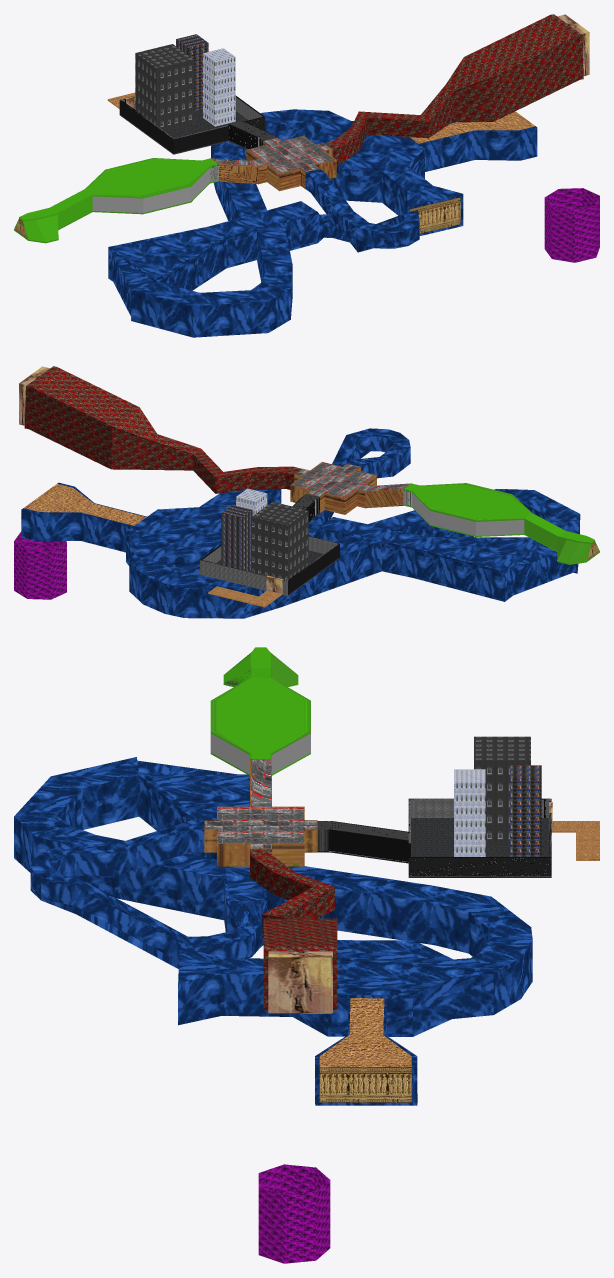
The model's file is room_v5_1.glb.
3 renders of one model, top to bottom at view 1: azimuth 30°, elevation 25°; view 2: azimuth 150°, elevation 25°; view 3: azimuth 270°, elevation 25°, orthographic. The views are drawn at different scales.
Visible parts, largest first — view 1: WaterRealm, cave, Garden, building2, Room, City, Prison, building, building3, Monolith_cave_purple; view 2: WaterRealm, cave, Garden, Room, building2, City, Prison, building3, citySecretRoom, building, Monolith_cave_purple; view 3: WaterRealm, City, Garden, Room, cave, Prison, Monolith_cave_purple, building2, building3, building, citySecretRoom.
Boxes of the visible parts, x1=… form: WaterRealm: x1=108, y1=109, x2=537, y2=337; cave: x1=324, y1=14, x2=583, y2=164; Garden: x1=14, y1=158, x2=218, y2=243; building2: x1=135, y1=44, x2=194, y2=131; Room: x1=211, y1=136, x2=336, y2=191; City: x1=119, y1=95, x2=276, y2=154; Prison: x1=544, y1=188, x2=599, y2=262; building: x1=203, y1=48, x2=235, y2=126; building3: x1=176, y1=34, x2=208, y2=110; Monolith_cave_purple: x1=557, y1=14, x2=589, y2=76; WaterRealm: x1=21, y1=428, x2=580, y2=618; cave: x1=24, y1=366, x2=301, y2=493; Garden: x1=403, y1=483, x2=599, y2=564; Room: x1=290, y1=462, x2=410, y2=514; building2: x1=252, y1=502, x2=308, y2=580; City: x1=200, y1=494, x2=339, y2=595; Prison: x1=14, y1=532, x2=66, y2=599; building3: x1=221, y1=505, x2=252, y2=571; citySecretRoom: x1=208, y1=586, x2=282, y2=607; building: x1=236, y1=488, x2=267, y2=515; Monolith_cave_purple: x1=19, y1=366, x2=49, y2=425; WaterRealm: x1=14, y1=757, x2=532, y2=1105; City: x1=317, y1=798, x2=551, y2=877; Garden: x1=210, y1=647, x2=310, y2=775; Room: x1=204, y1=759, x2=317, y2=866; cave: x1=250, y1=849, x2=337, y2=1010; Prison: x1=258, y1=1164, x2=330, y2=1263; Monolith_cave_purple: x1=268, y1=951, x2=332, y2=1013; building2: x1=474, y1=736, x2=530, y2=846; building3: x1=510, y1=765, x2=541, y2=856; building: x1=454, y1=769, x2=485, y2=856; citySecretRoom: x1=551, y1=821, x2=599, y2=860.
Bounding box in the file's own units: 133 × 48.59 × 86.55.
Materials: 24 (24 with a texture image).
